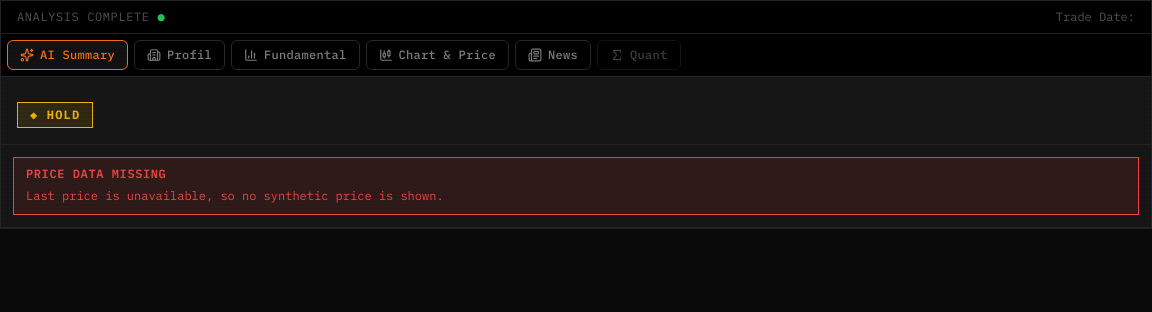
Test case: ResultCard risk-engine contract › renders Chart & Price empty state when chart data is unavailable
Click the tab "Chart & Price". click: x=437, y=55
box: [366, 40, 509, 70]
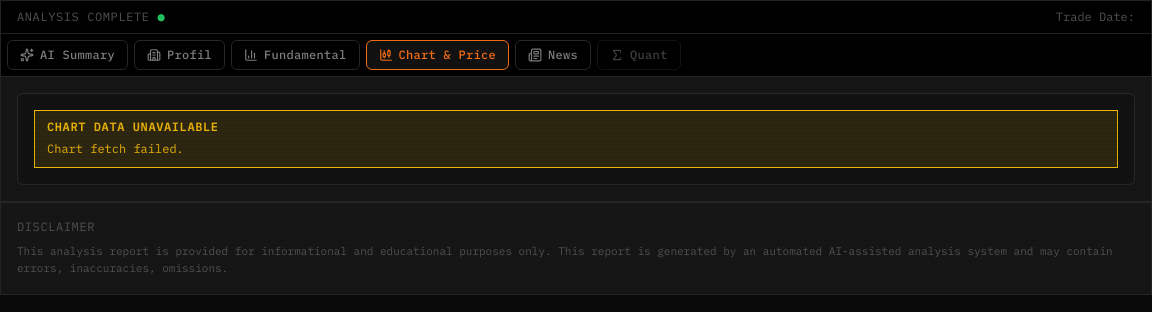
Check: the text "CHART DATA UNAVAILABLE" is shown, box [47, 119, 219, 134]
Check: the text "Chart fetch failed." is shown, box [47, 141, 184, 156]
